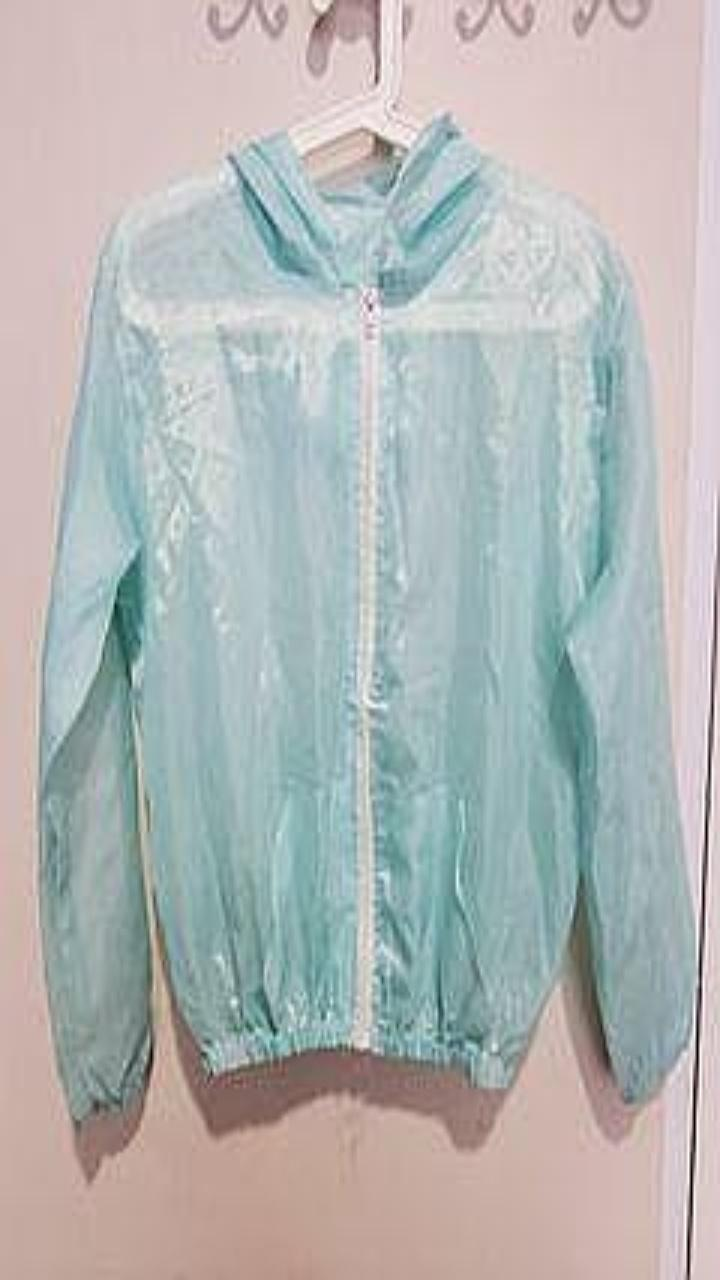Sports_Jacket: (37, 111, 694, 1120)
